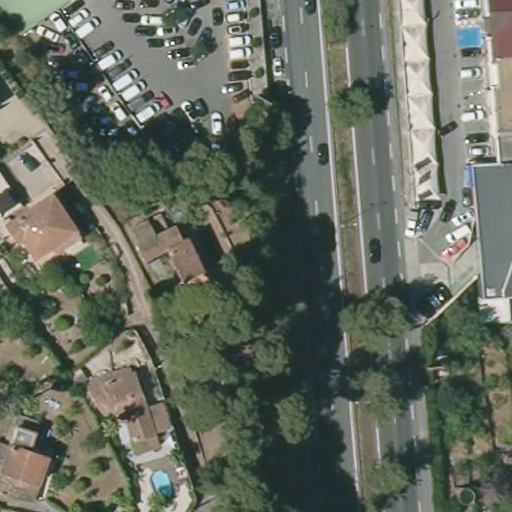pool: (150, 467, 179, 502)
